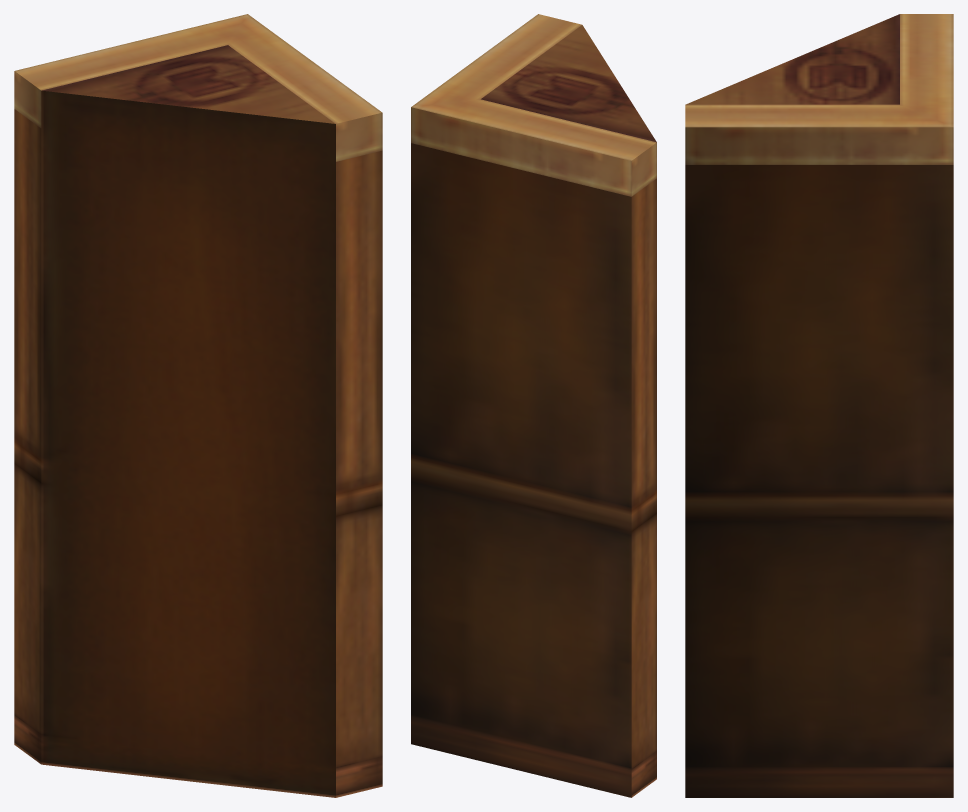
The model's file is a_bookcase11.glb.
The picture shows the model from 3 angles, left to right: view 1: azimuth 30°, elevation 25°; view 2: azimuth 150°, elevation 25°; view 3: azimuth 270°, elevation 25°; orthographic projection. The views are drawn at different scales.
Parts seen in each view (by area): view 1: a_bookcase11; view 2: a_bookcase11; view 3: a_bookcase11.
Boxes of the visible parts, <box> form: a_bookcase11: <box>14,14,382,797</box>; a_bookcase11: <box>411,14,656,797</box>; a_bookcase11: <box>685,14,953,797</box>.
Size of the model in its own units: 1 by 2.76 by 0.9999.
Materials: 2 (2 with a texture image).
